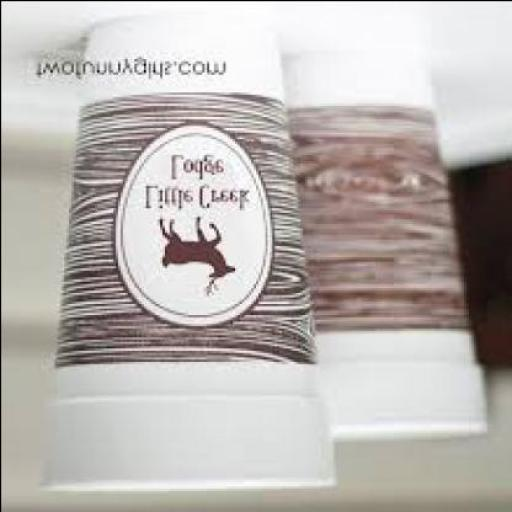paper: (35, 2, 339, 494), (282, 44, 487, 441)
